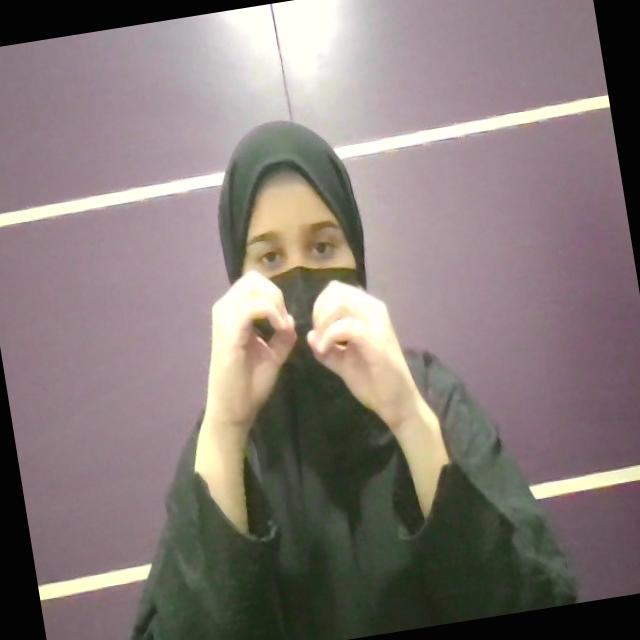analysis: (182, 245, 427, 433)
